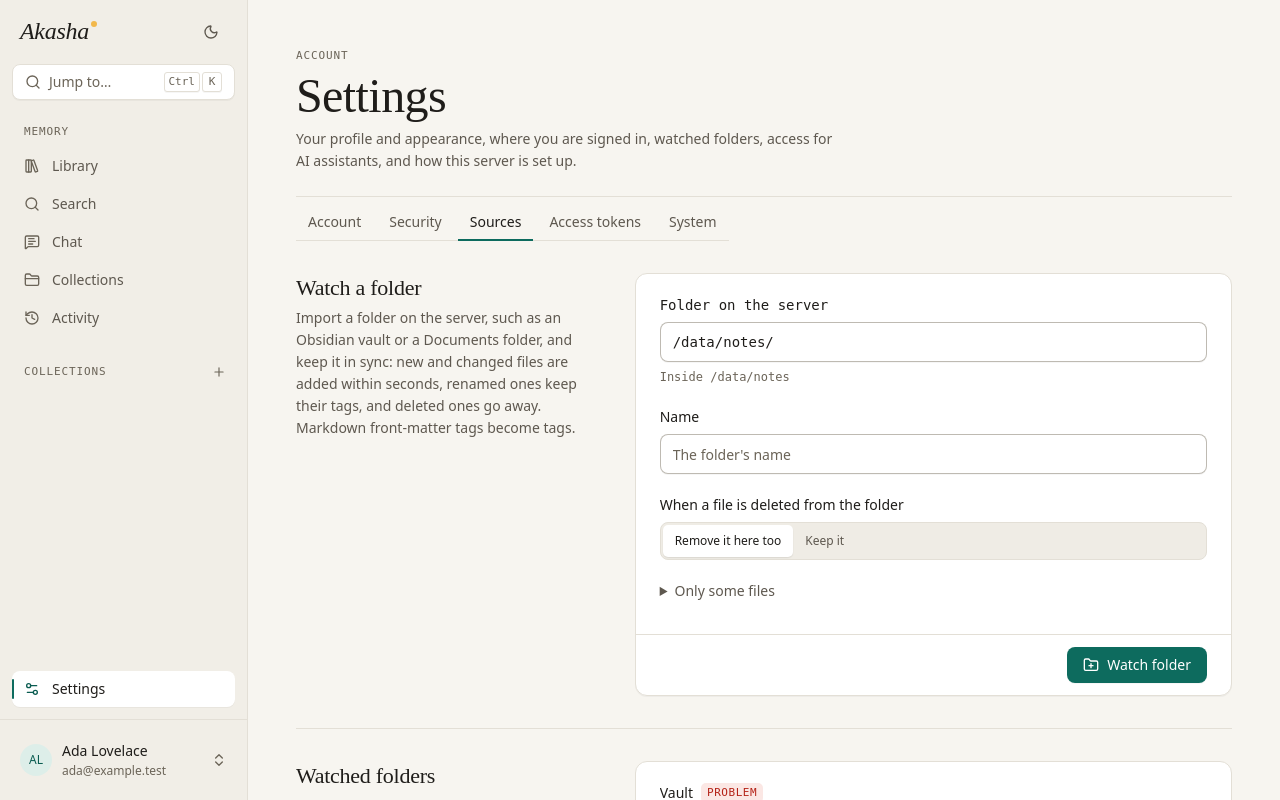
Scenario: settings → sources › adds a folder under the allowed root and lists folders with their state
Type "Docs/" into the field labelled "Folder on the server" at x=933, y=342, box [660,322,1207,362]
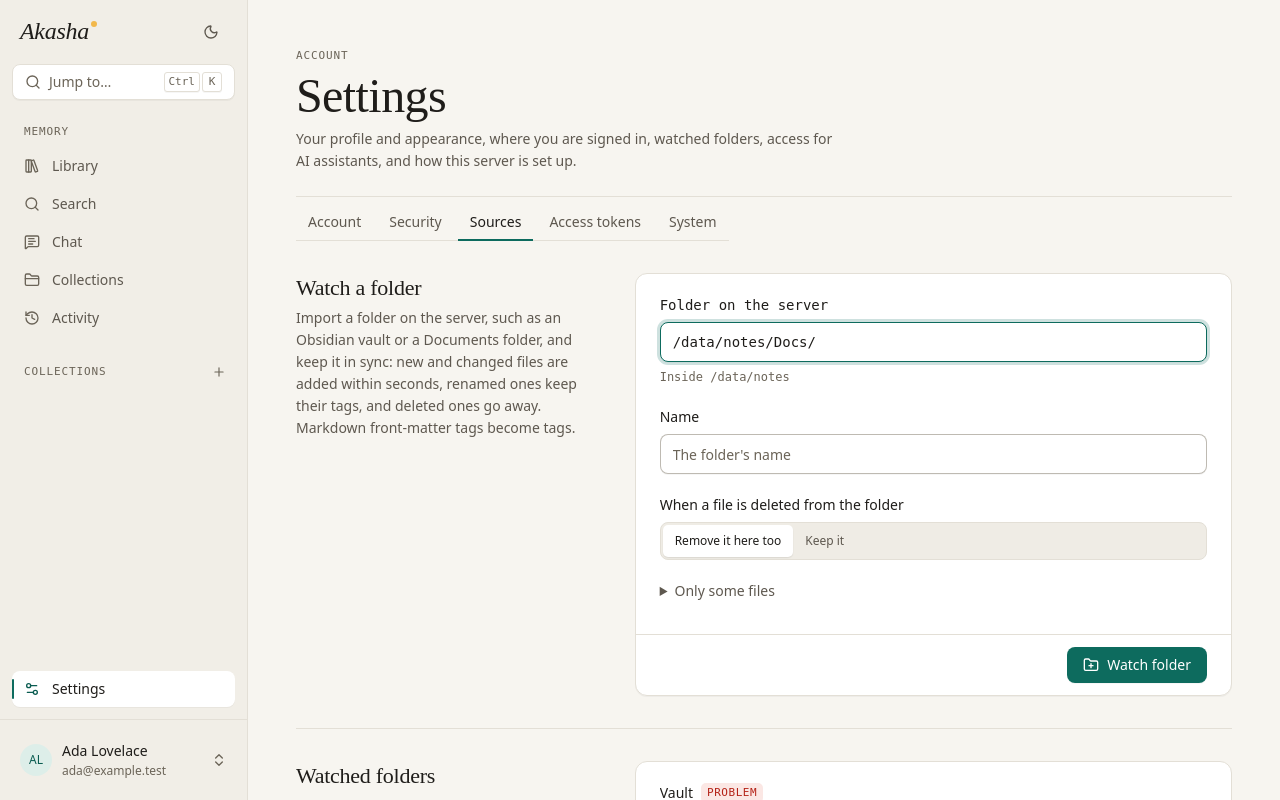
Click the radio button labelled "Keep it" at x=825, y=541, box [793,525,856,557]
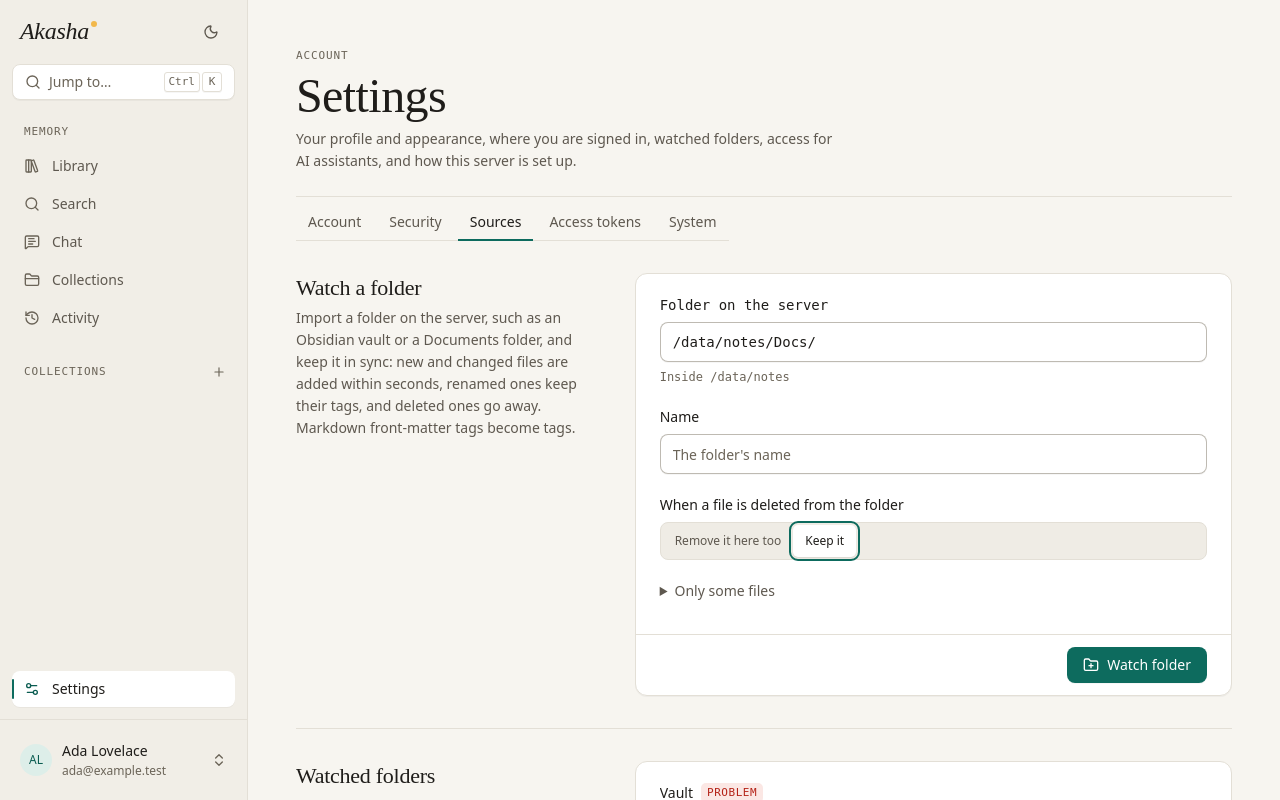
Click the button "Watch folder" at x=1137, y=665, box [1067,647,1207,683]
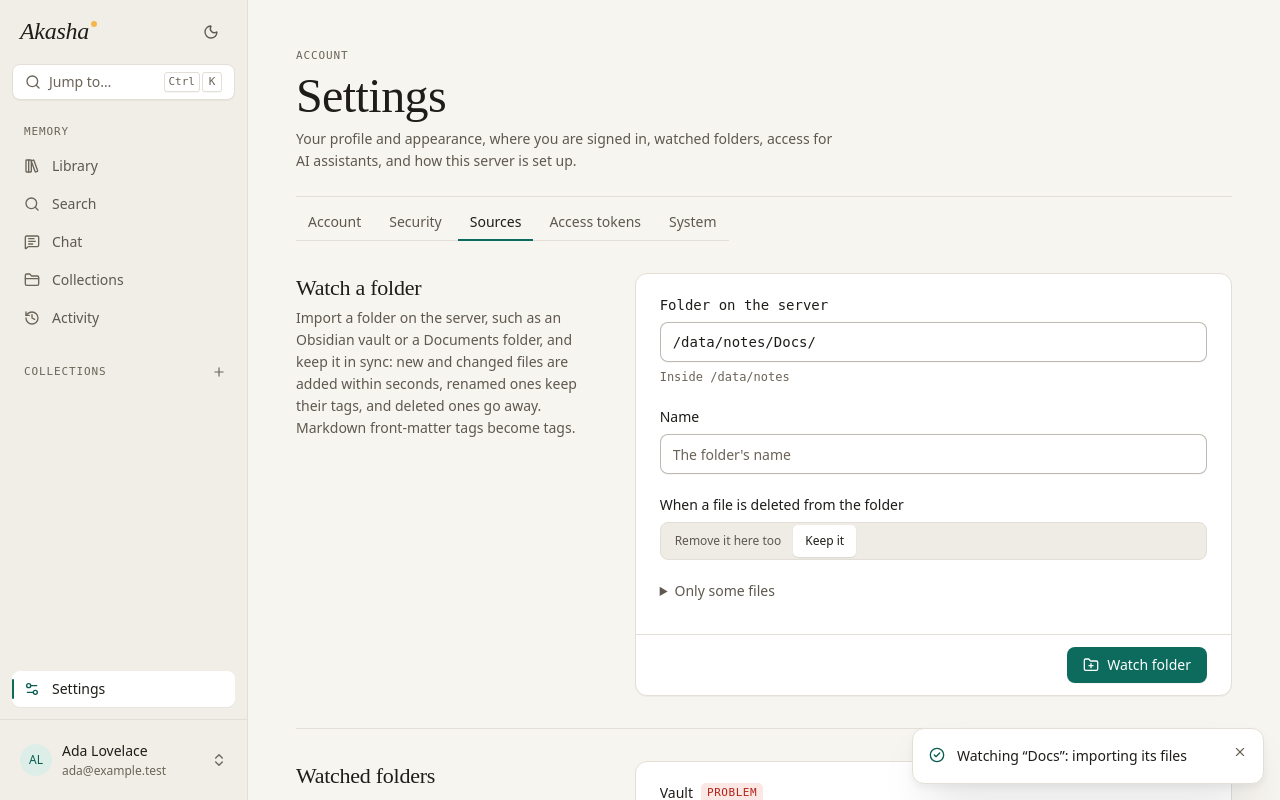
Now the text "Watching “Docs”: importing its files" is shown, box [957,745,1187,767]
